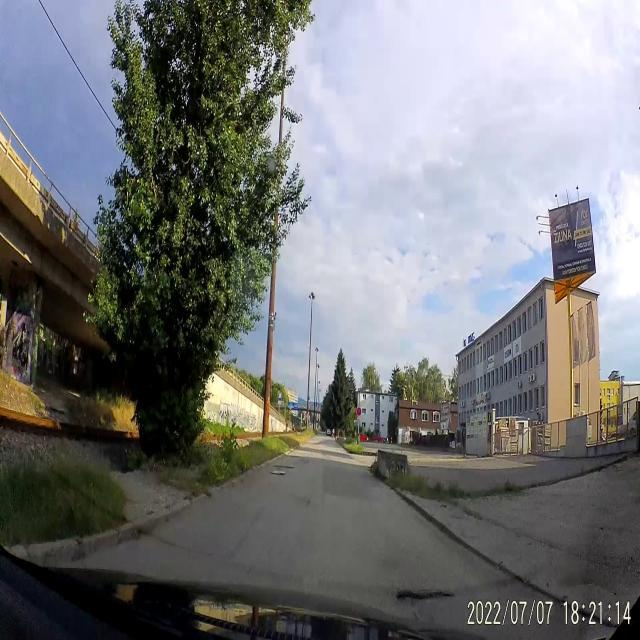Pothole: (390, 582, 454, 612)
